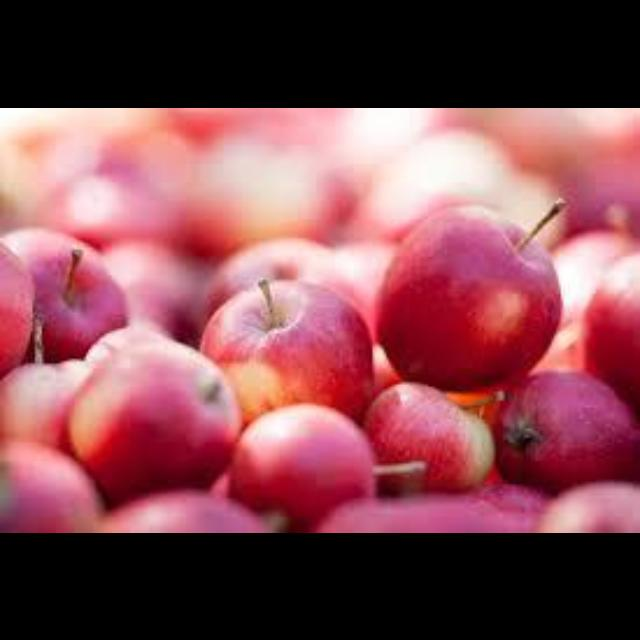apple: (377, 200, 563, 389), (72, 340, 240, 503), (200, 279, 370, 424), (228, 403, 375, 524), (496, 370, 638, 491), (0, 228, 126, 361), (363, 382, 493, 491), (0, 442, 102, 531), (0, 361, 86, 451), (0, 242, 33, 375)
